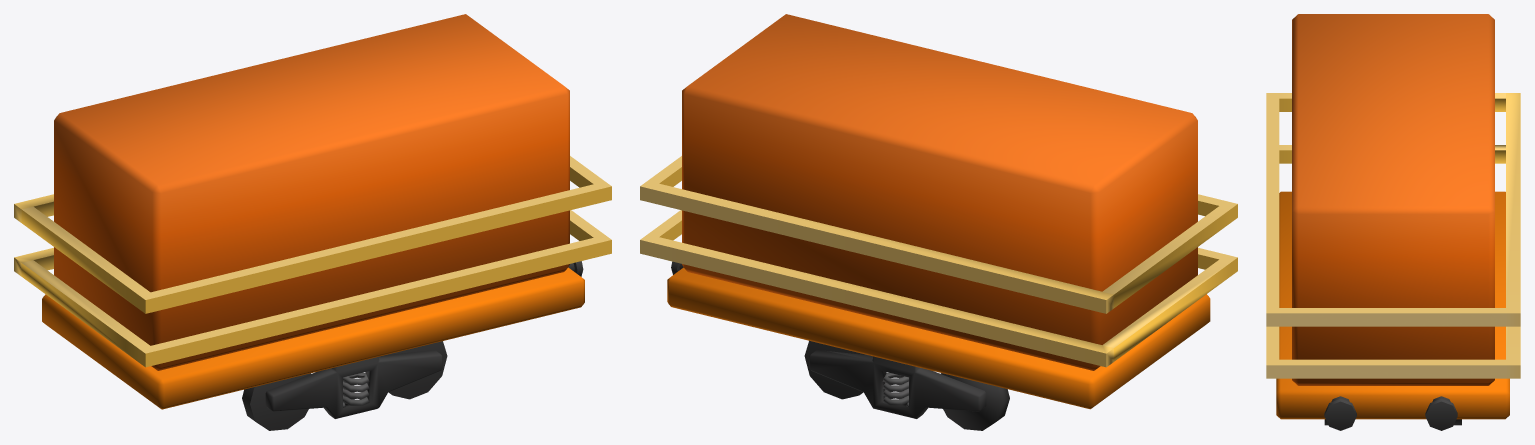
The model's file is Vehicle_Train_A_02.fbx.
3 renders of one model, left to right at view 1: azimuth 30°, elevation 25°; view 2: azimuth 150°, elevation 25°; view 3: azimuth 270°, elevation 25°, orthographic. The views are drawn at different scales.
Parts seen in each view (by area): view 1: Vehicle_Train_A_02; view 2: Vehicle_Train_A_02; view 3: Vehicle_Train_A_02.
Boxes of the visible parts, x1,y1,x2,y2 form: Vehicle_Train_A_02: (14, 14, 611, 430); Vehicle_Train_A_02: (640, 14, 1237, 430); Vehicle_Train_A_02: (1266, 14, 1520, 430).
Bounding box in the file's own units: 334 × 197 × 163.
